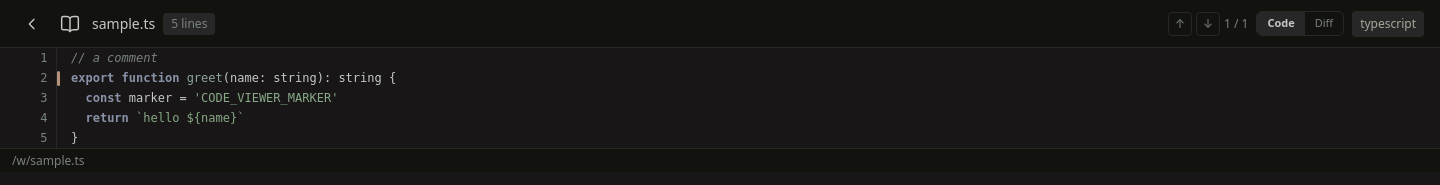
Test: CodeEditor.vue — renders the file (not a blank body) › colors the Diff view rows, not just the code view
// The Code/Diff toggle only appears when a diff is available.
Click the element with test id "code-diff-toggle" at (1300, 24), box [1256, 11, 1344, 36]
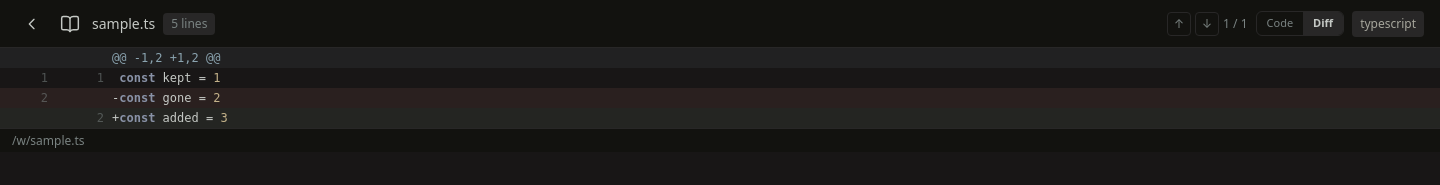
Expected: the elements with class "tok-keyword" read "const", "const", "const", in this order, [119, 71, 155, 85]; [119, 91, 155, 105]; [119, 111, 155, 125]
Expected: the element with test id "code-diff-view" shows "+const added = 3", [0, 48, 1439, 128]
Expected: the element with test id "code-diff-view" shows "-const gone = 2", [0, 48, 1439, 128]
